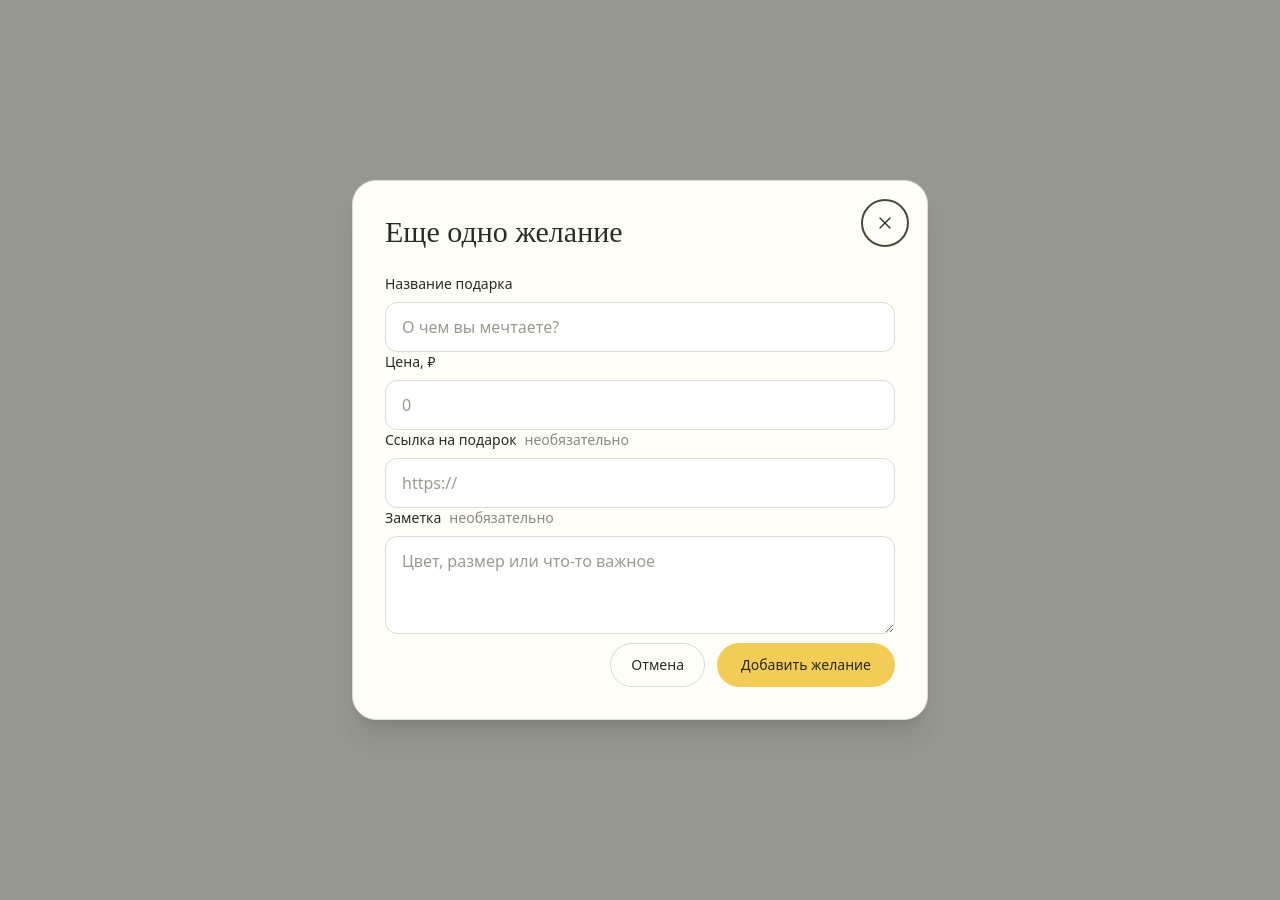
Test case: gift form validation and failed saves › rejects credentials in otherwise valid HTTP store URLs
Type "Тестовый подарок" into the field labelled "Название подарка" at coordinates (640, 327), box [385,302,895,352]
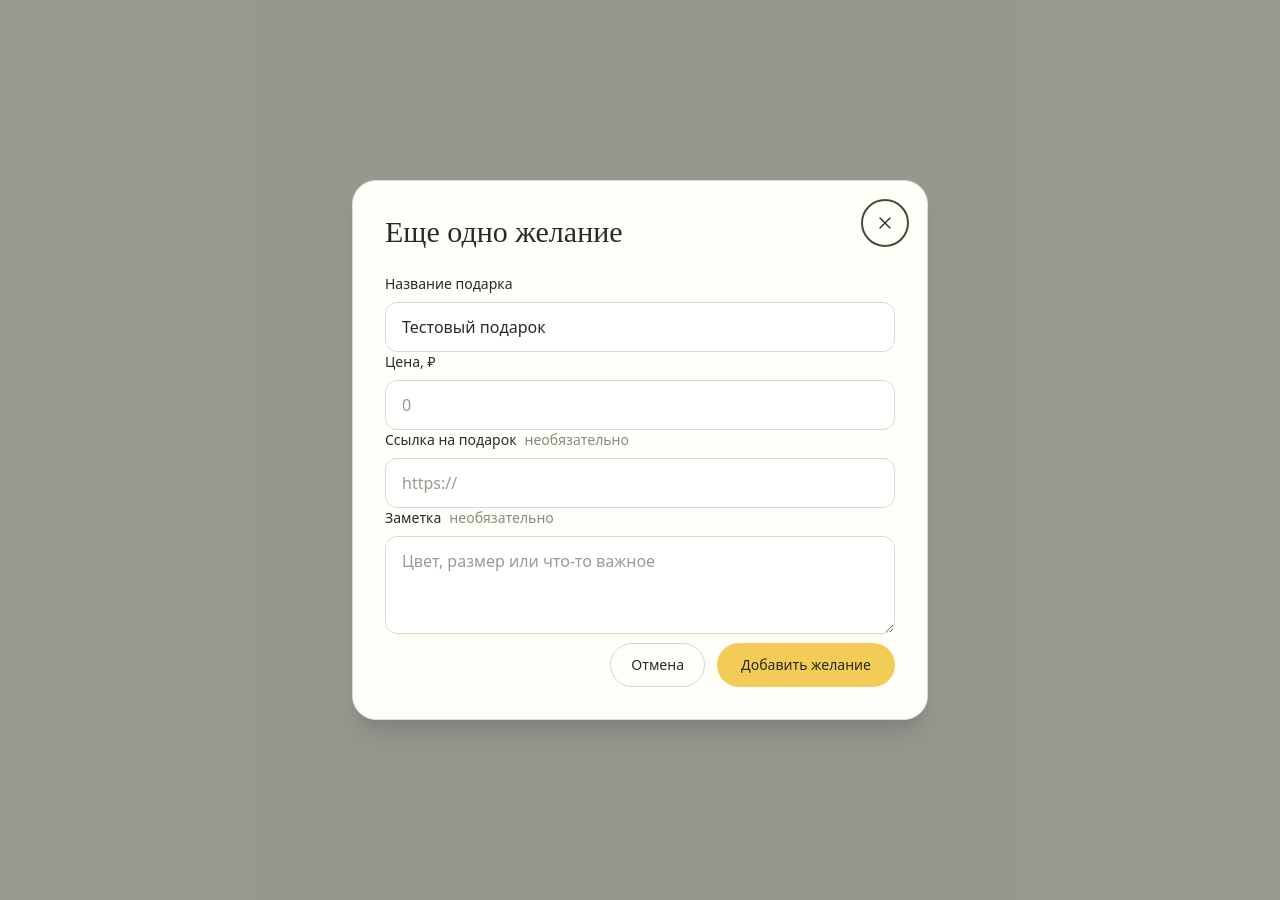
Type "1" into the field labelled "Цена, ₽" at coordinates (640, 405), box [385,380,895,430]
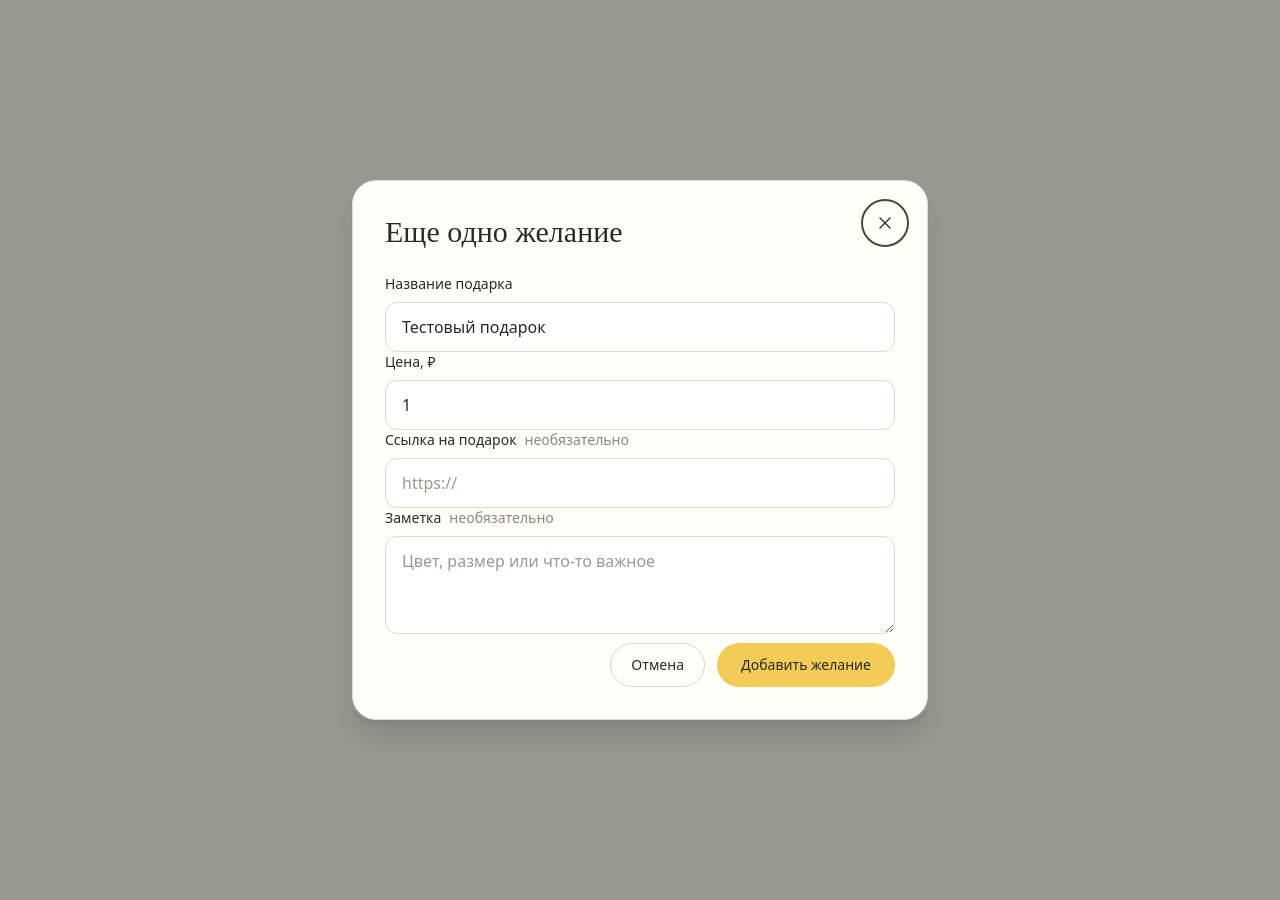
Type "https://user:password@example.com/gift" into the field labelled "Ссылка на подарок" at coordinates (640, 483), box [385,458,895,508]
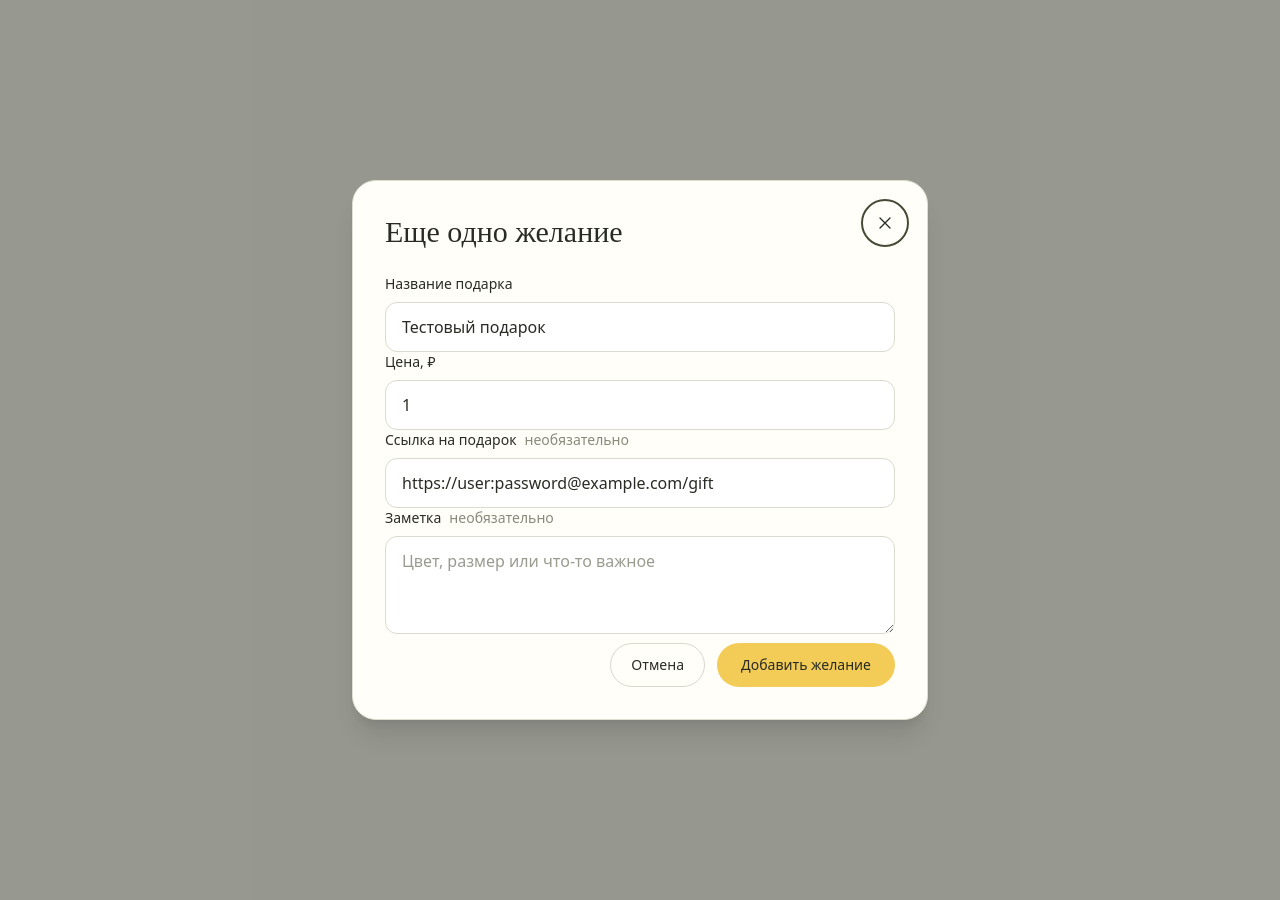
Submit the form named "Добавить желание", box [385,274,895,687]
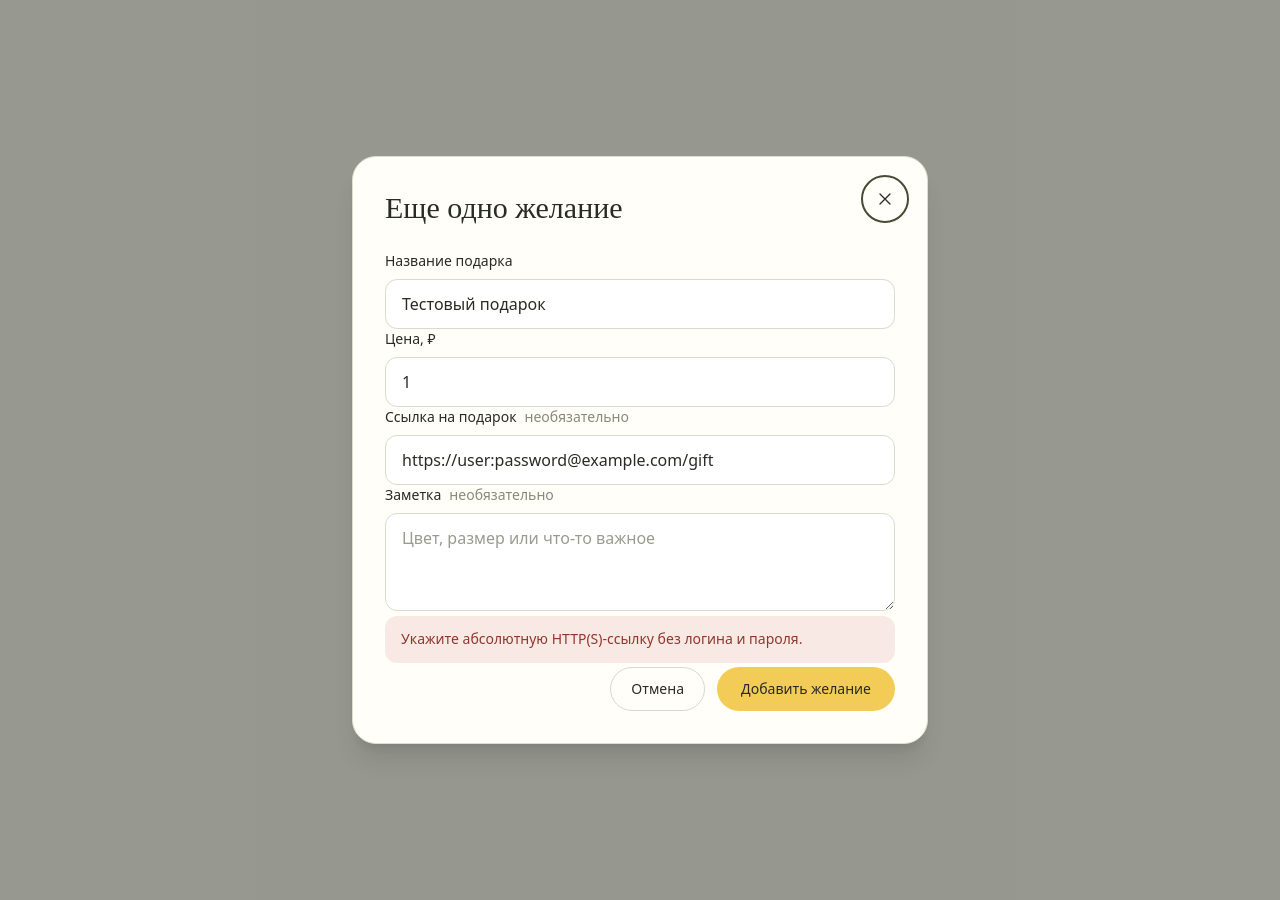
Result: the message shows "без логина и пароля" at [401,629,802,648]
